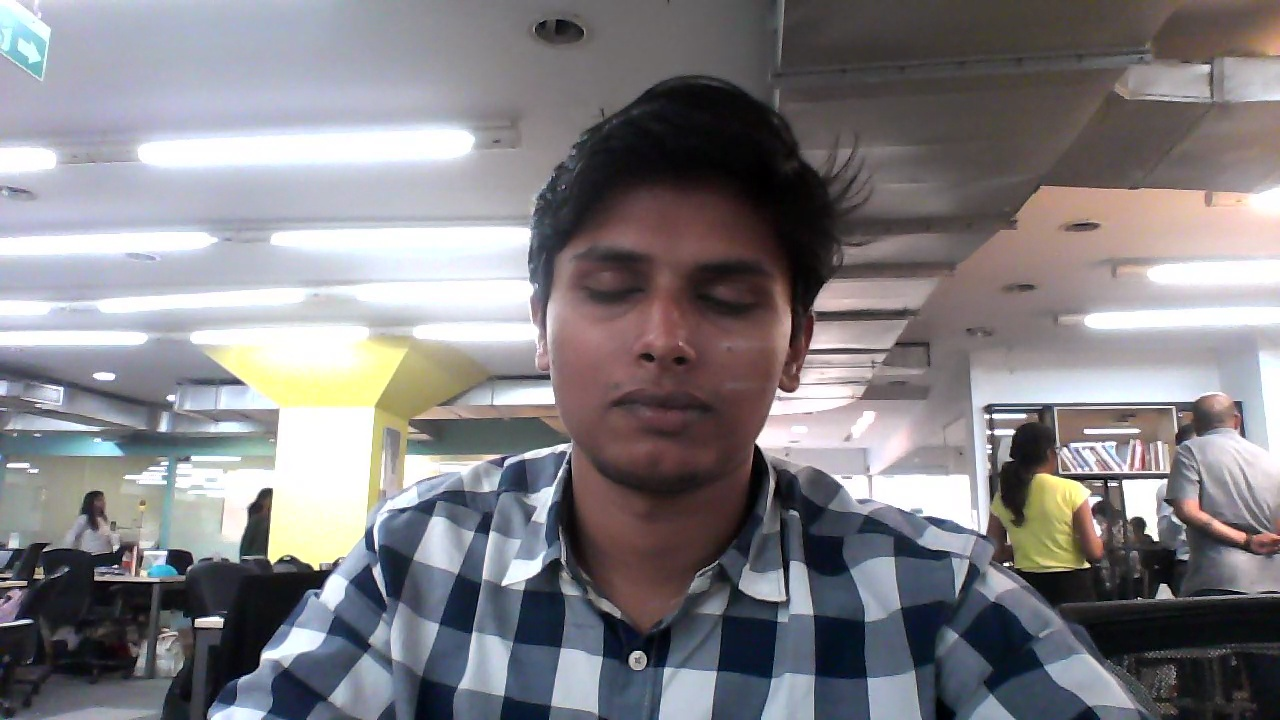closed: (524, 87, 820, 503)
